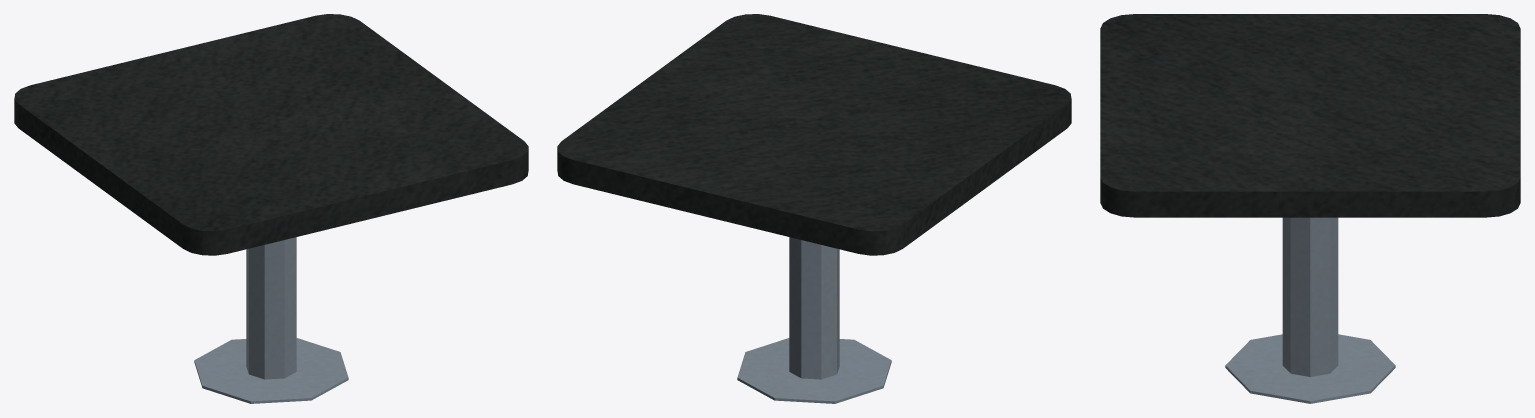
File: Mesa.fbx
3 views of the same model, side by side, from view 1: azimuth 30°, elevation 25°; view 2: azimuth 150°, elevation 25°; view 3: azimuth 270°, elevation 25° (orthographic). The views are drawn at different scales.
Parts seen in each view (by area): view 1: Mesa; view 2: Mesa; view 3: Mesa.
Boxes of the visible parts, bbox=[...] form: Mesa: bbox=[14, 14, 528, 403]; Mesa: bbox=[557, 14, 1071, 403]; Mesa: bbox=[1100, 14, 1520, 403].
Bounding box in the file's own units: 120 × 83.57 × 120.
